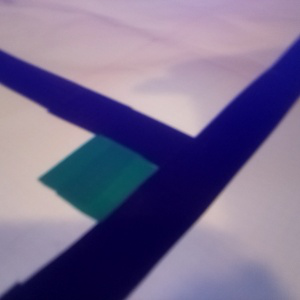bottom_left: (40, 135, 188, 222)
